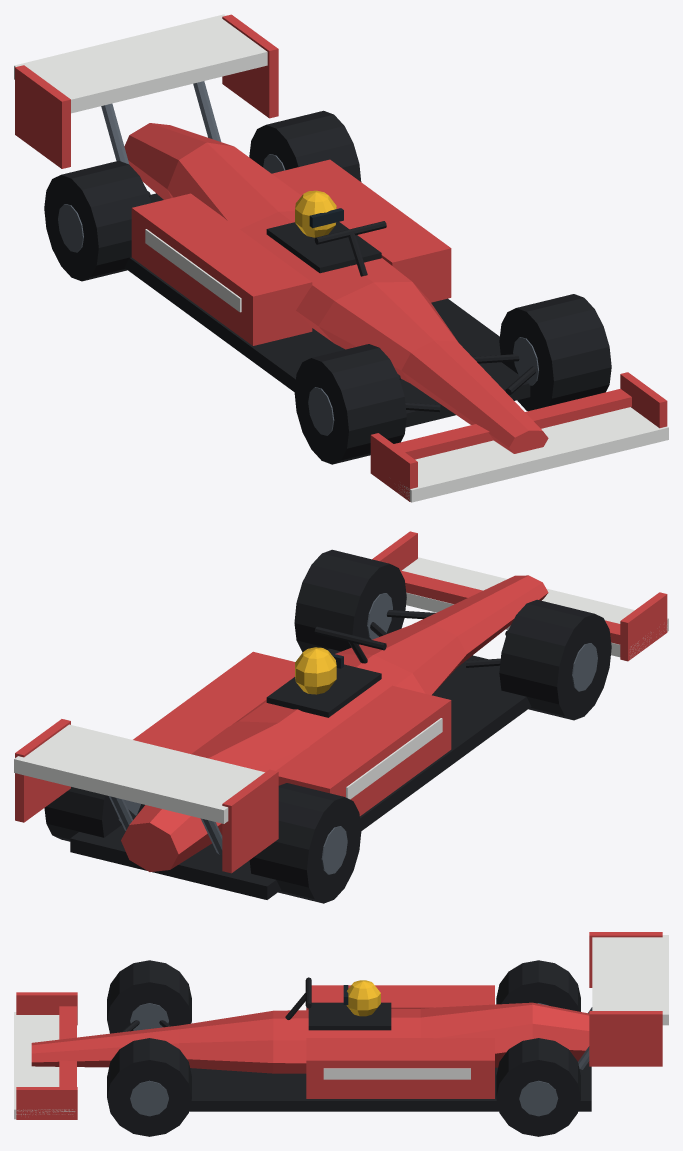
The picture shows the model from 3 angles, top to bottom: view 1: azimuth 30°, elevation 25°; view 2: azimuth 150°, elevation 25°; view 3: azimuth 270°, elevation 25°; orthographic projection. The views are drawn at different scales.
Parts seen in each view (by area): view 1: f1 body; view 2: f1 body; view 3: f1 body.
Boxes of the visible parts, x1,y1,x2,y2 form: f1 body: (14,14,668,502); f1 body: (14,531,668,903); f1 body: (14,932,668,1136).
Bounding box in the file's own units: 2.02 × 1.07 × 5.56.
